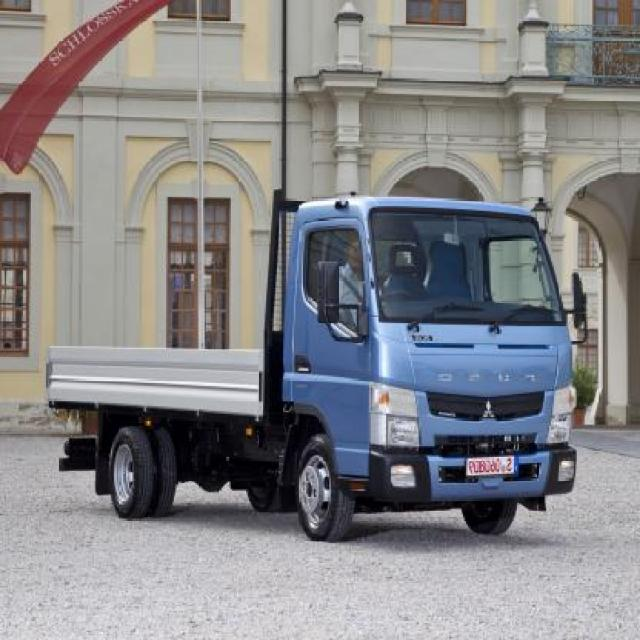truck: (47, 188, 592, 537)
